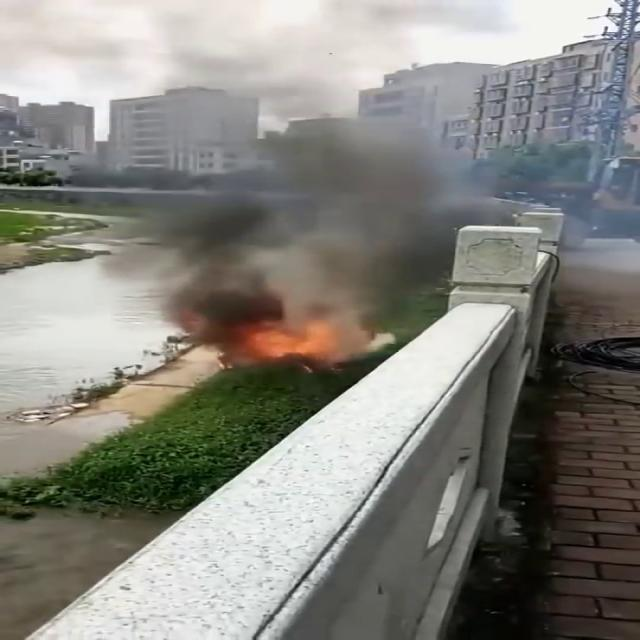Fire: (224, 310, 356, 372)
Smoke: (38, 3, 494, 316)
